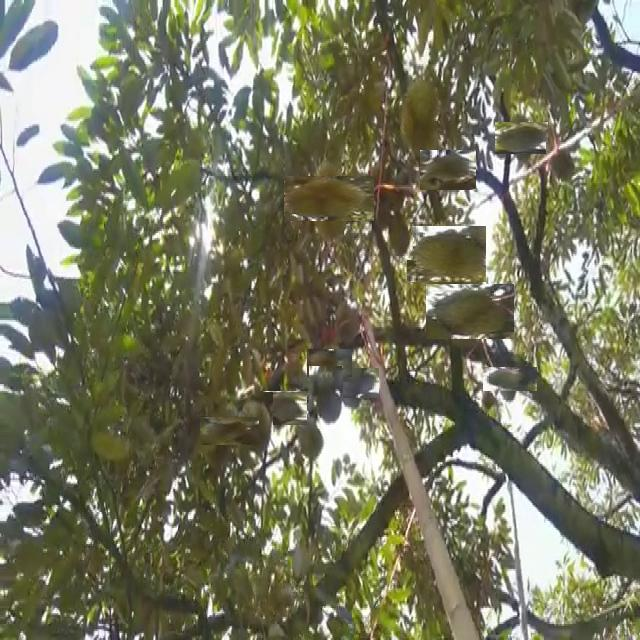durian: (435, 276, 506, 347), (413, 220, 481, 288), (294, 164, 362, 232), (398, 75, 444, 166), (235, 392, 273, 460), (423, 146, 472, 195), (309, 366, 343, 429), (208, 409, 252, 453), (329, 361, 373, 405), (500, 116, 544, 160), (262, 387, 304, 429), (490, 359, 529, 399), (295, 412, 325, 464), (546, 142, 578, 190), (385, 207, 413, 260), (311, 345, 349, 381)
